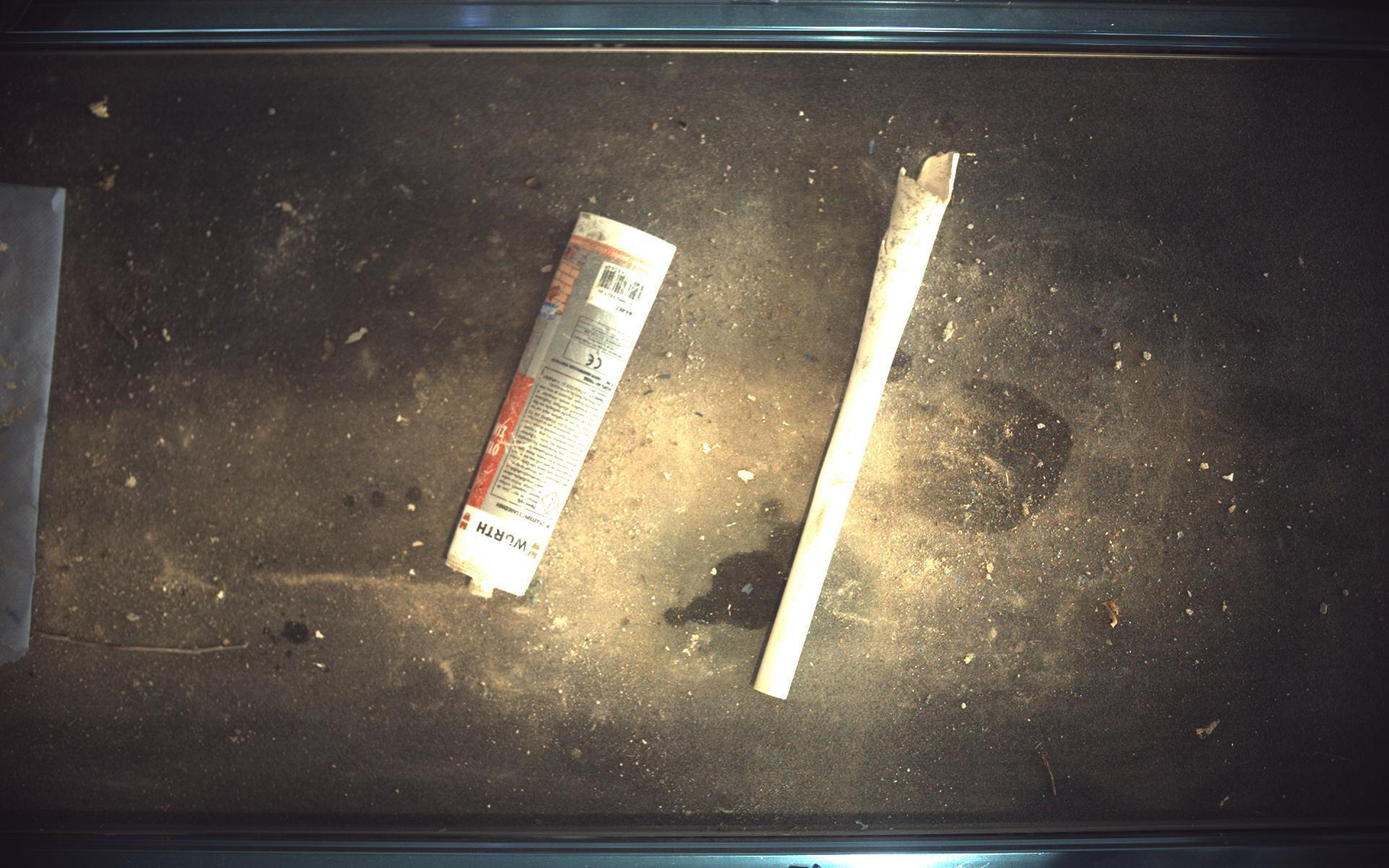pipes: (755, 151, 961, 700)
plastic: (446, 211, 676, 597)
